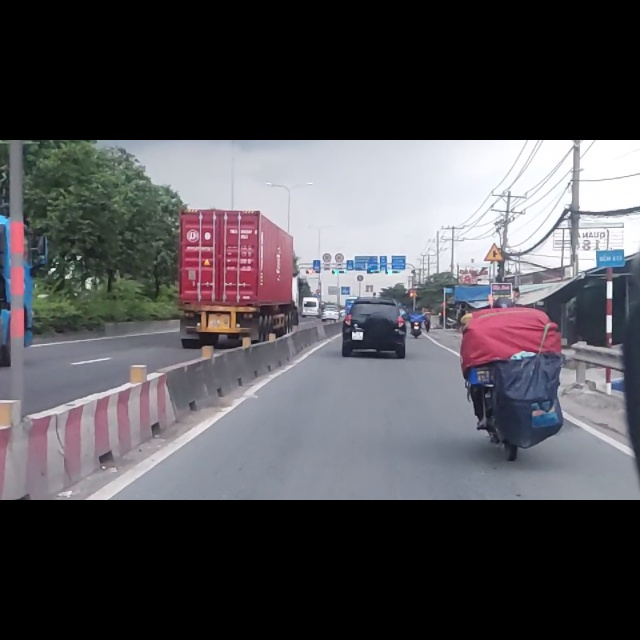bien_chi_dan: (483, 184, 505, 218)
